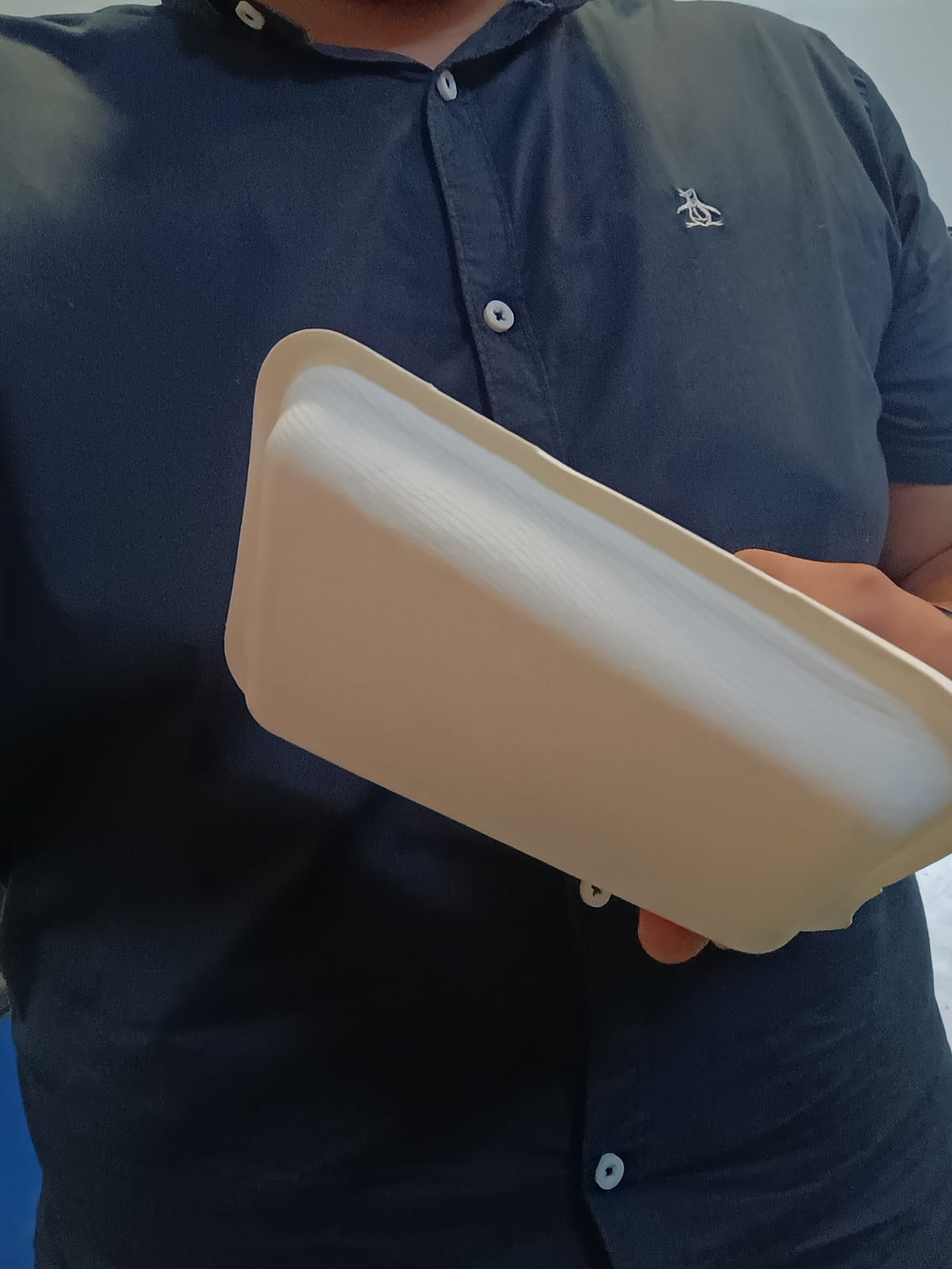Ordinario: (221, 327, 952, 958)
